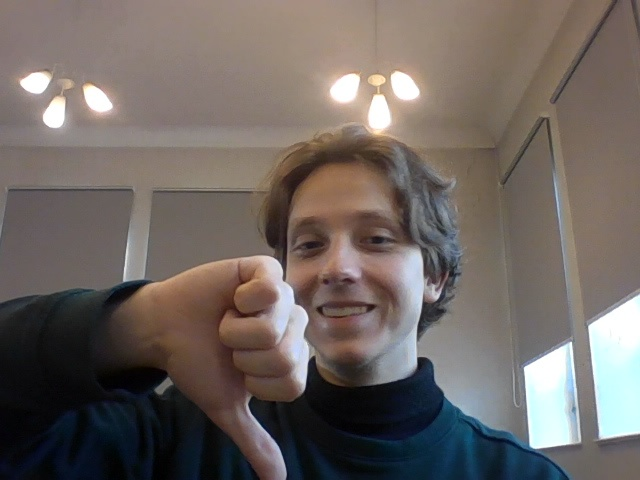no: (155, 250, 324, 480)
